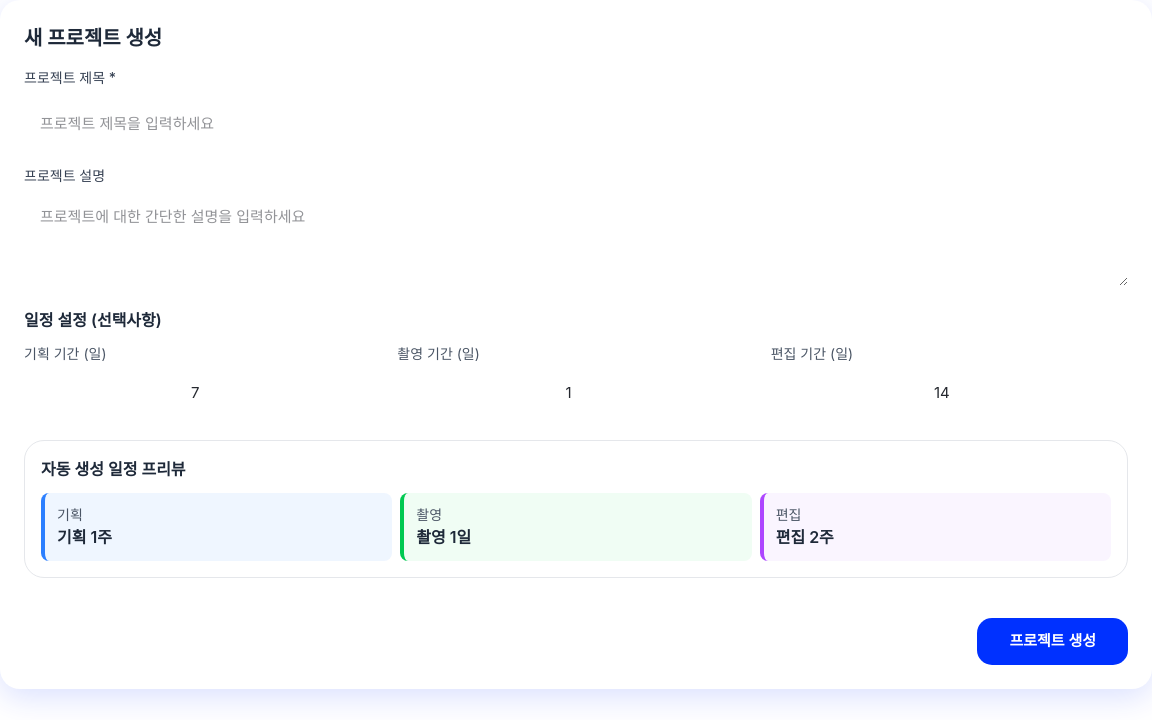
Scenario: ProjectForm - TDD Red Phase › 🔴 RED: 실패하는 테스트 작성 (컴포넌트 미구현) › 필수 필드 미입력 시 유효성 검사 에러가 표시되어야 함
The width and height of the screenshot is (1152, 720).
# FAIL: 유효성 검사 미구현
Click the button "프로젝트 생성". click: x=1053, y=641
box: [977,618,1128,664]
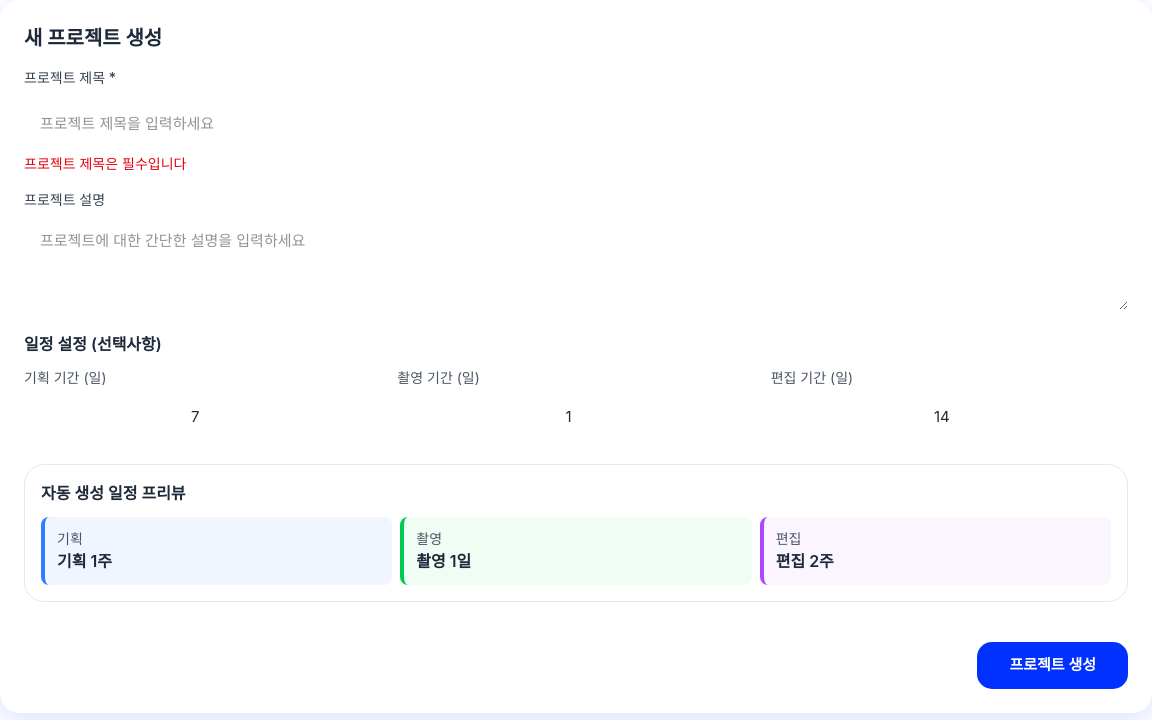
Now the text "프로젝트 제목은 필수입니다" is shown, box [24,155,186,172]
